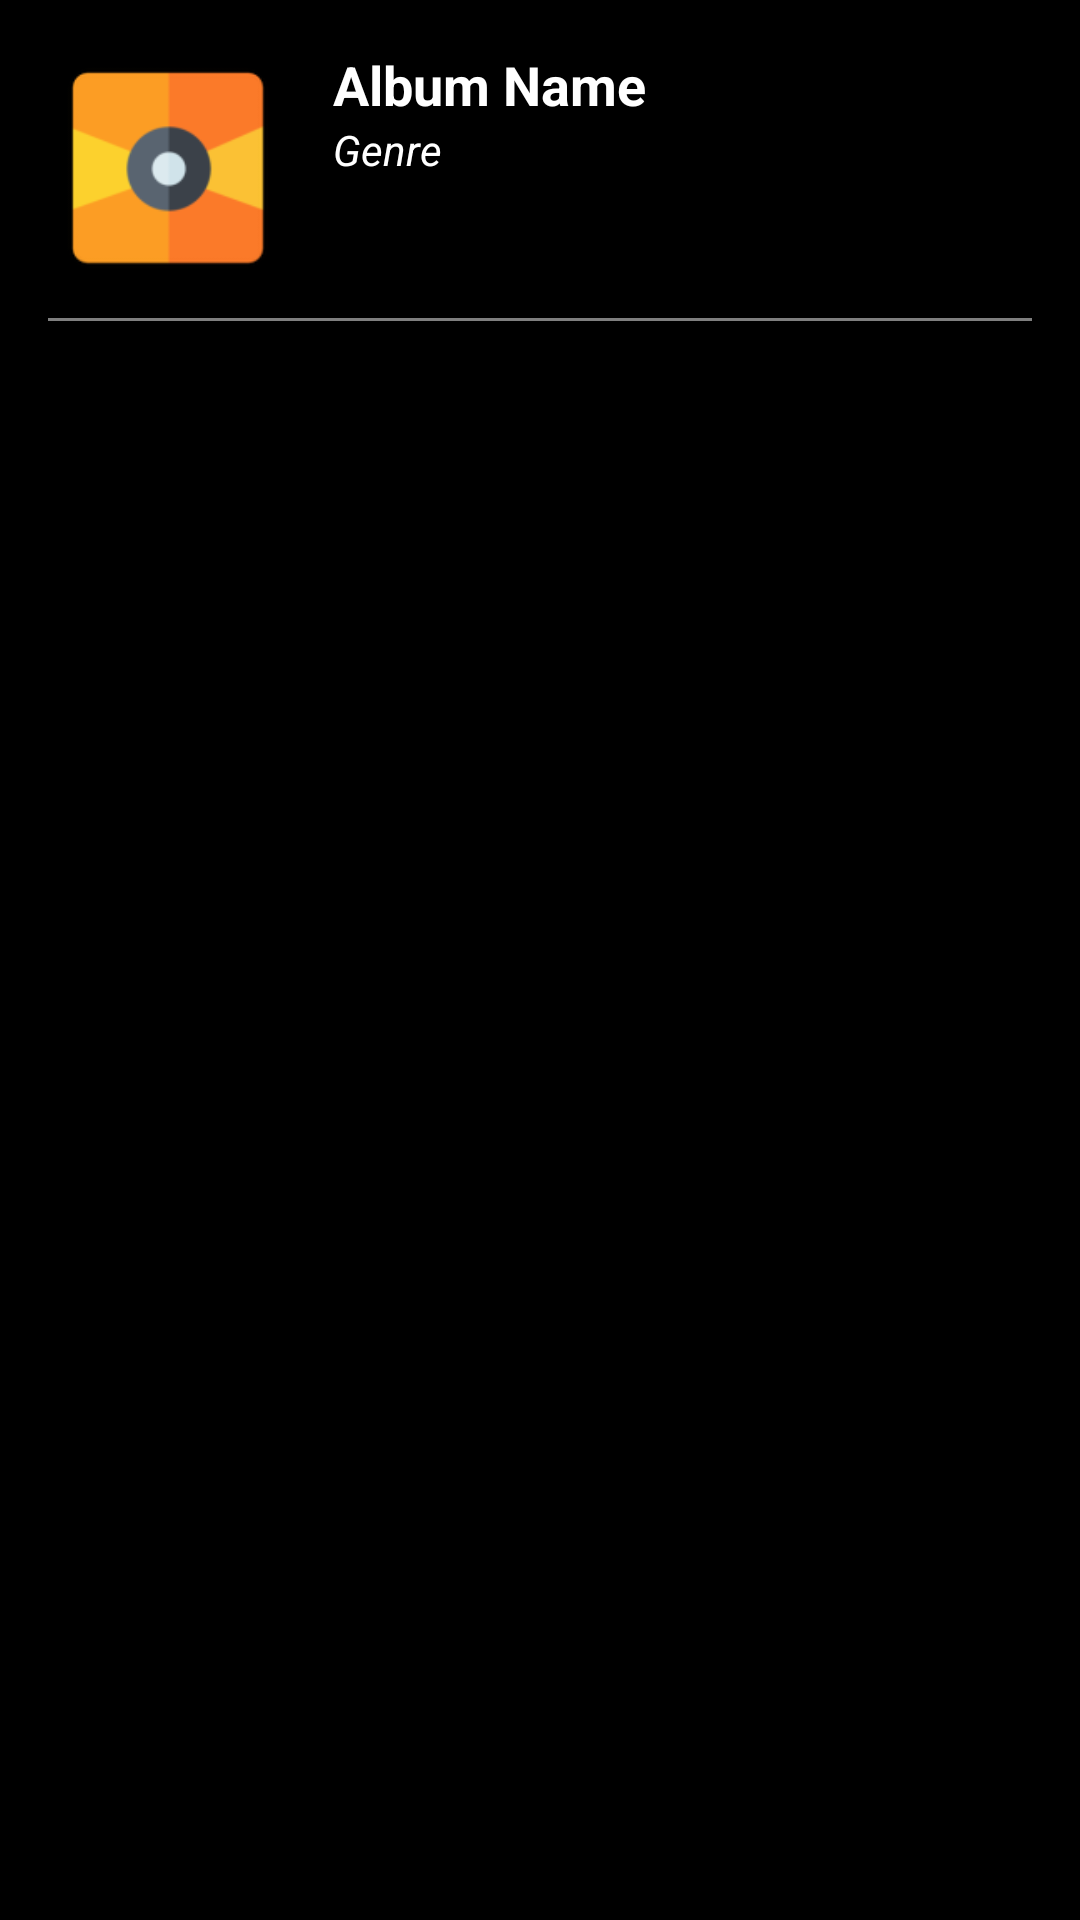

Screen size 1080x1920. Icon name, then its box in pixels as box(x1, y1, x2, y2):
Url del cover: box(72, 72, 264, 264)
